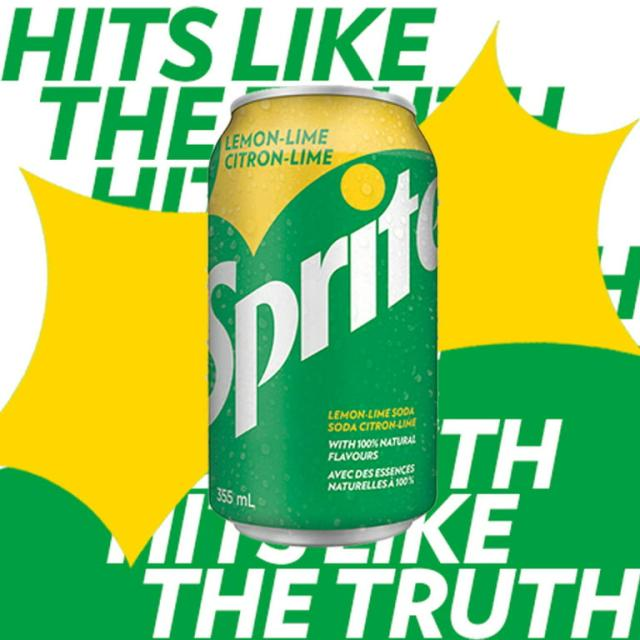sprite: (192, 101, 452, 547)
